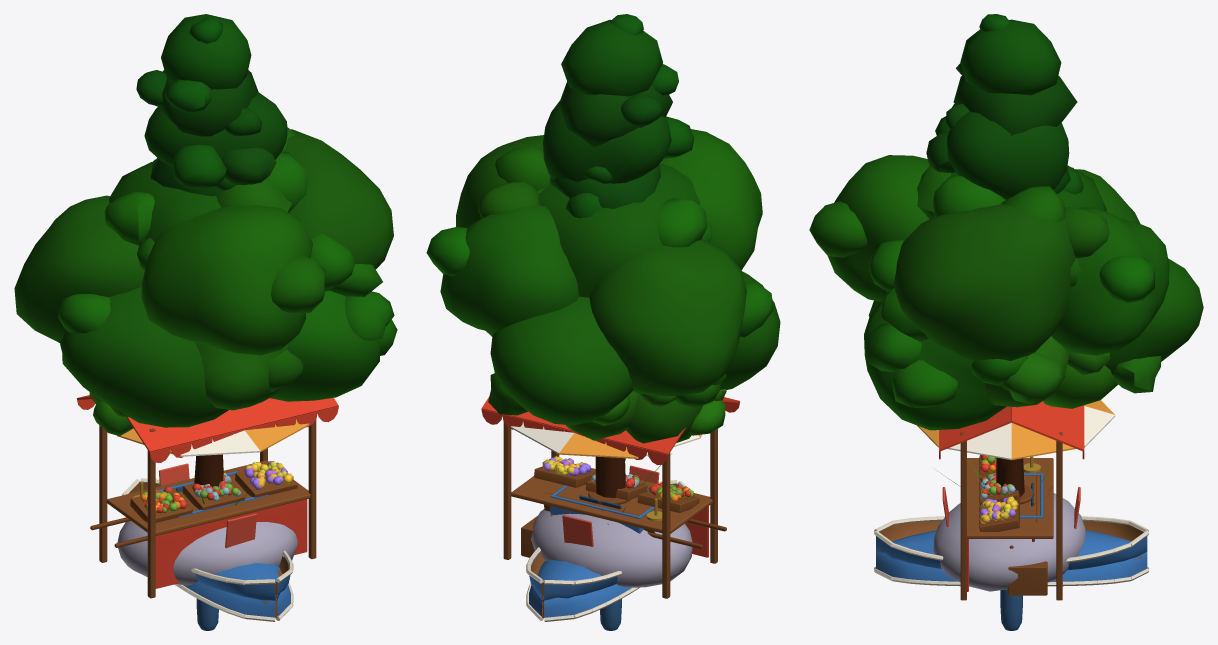
The model's file is wv2_kit.glb.
3 renders of one model, left to right at view 1: azimuth 30°, elevation 25°; view 2: azimuth 150°, elevation 25°; view 3: azimuth 270°, elevation 25°, orthographic.
Visible parts, largest first — view 1: kit_tree_a, kit_tree_b, kit_stall_red, kit_rock_b, kit_tree_c, kit_rowboat_flip, kit_rowboat_a, kit_parasol, kit_cafe_set, kit_stall_blue, kit_stall_yellow, kit_cart (+1 smaller); view 2: kit_tree_a, kit_tree_b, kit_stall_red, kit_rock_b, kit_tree_c, kit_rowboat_flip, kit_parasol, kit_rowboat_a, kit_cafe_set, kit_cart, kit_stall_yellow, kit_fender (+1 smaller); view 3: kit_tree_a, kit_tree_b, kit_stall_red, kit_tree_c, kit_rock_b, kit_rowboat_flip, kit_rowboat_a, kit_parasol, kit_fender, kit_stall_blue, kit_stall_yellow.
Part boxes in pixels (x1,y1,x2,y2): kit_tree_a: [14, 127, 397, 485]; kit_tree_b: [136, 14, 287, 486]; kit_stall_red: [77, 395, 338, 598]; kit_rock_b: [117, 521, 297, 585]; kit_tree_c: [89, 342, 287, 481]; kit_rowboat_flip: [174, 563, 293, 621]; kit_rowboat_a: [122, 478, 293, 604]; kit_parasol: [117, 419, 309, 456]; kit_cafe_set: [158, 463, 256, 548]; kit_stall_blue: [144, 462, 292, 513]; kit_stall_yellow: [143, 461, 287, 513]; kit_cart: [90, 471, 268, 547]; kit_tree_a: [426, 129, 780, 497]; kit_tree_b: [543, 14, 694, 497]; kit_stall_red: [481, 396, 739, 598]; kit_rock_b: [531, 509, 692, 587]; kit_tree_c: [486, 331, 726, 493]; kit_rowboat_flip: [526, 559, 639, 621]; kit_parasol: [510, 421, 701, 458]; kit_rowboat_a: [526, 480, 685, 604]; kit_cafe_set: [562, 465, 659, 546]; kit_cart: [550, 485, 726, 548]; kit_stall_yellow: [543, 457, 693, 499]; kit_fender: [600, 599, 621, 630]; kit_tree_a: [809, 155, 1203, 430]; kit_tree_b: [926, 14, 1083, 495]; kit_stall_red: [939, 401, 1084, 600]; kit_tree_c: [868, 300, 1117, 497]; kit_rock_b: [933, 493, 1085, 591]; kit_rowboat_flip: [874, 530, 1149, 586]; kit_rowboat_a: [874, 516, 1149, 570]; kit_parasol: [917, 400, 1115, 460]; kit_fender: [1000, 589, 1022, 630]; kit_stall_blue: [979, 455, 1018, 523]; kit_stall_yellow: [979, 456, 1016, 523].
Size of the model in its own units: 4.39 by 8.43 by 4.94.
